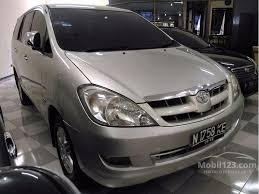plate: (191, 124, 226, 146)
